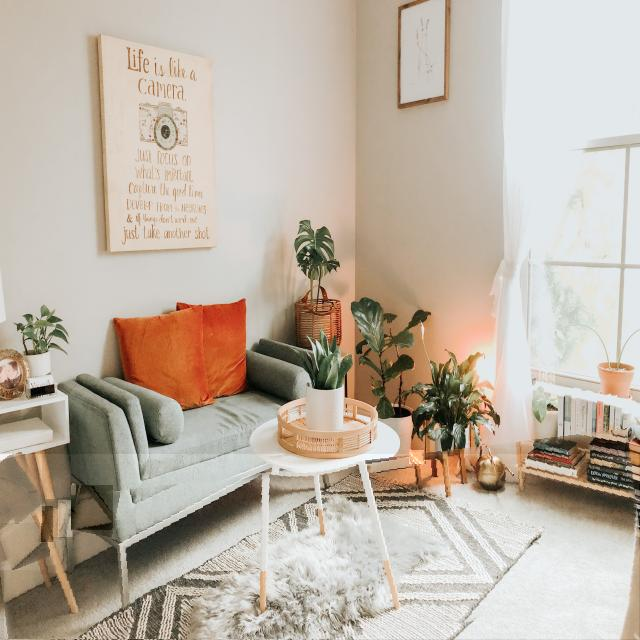floor: (5, 454, 640, 640), (0, 455, 42, 523), (0, 506, 44, 570), (72, 485, 113, 530), (59, 500, 73, 537), (42, 507, 53, 542), (409, 450, 425, 464)
